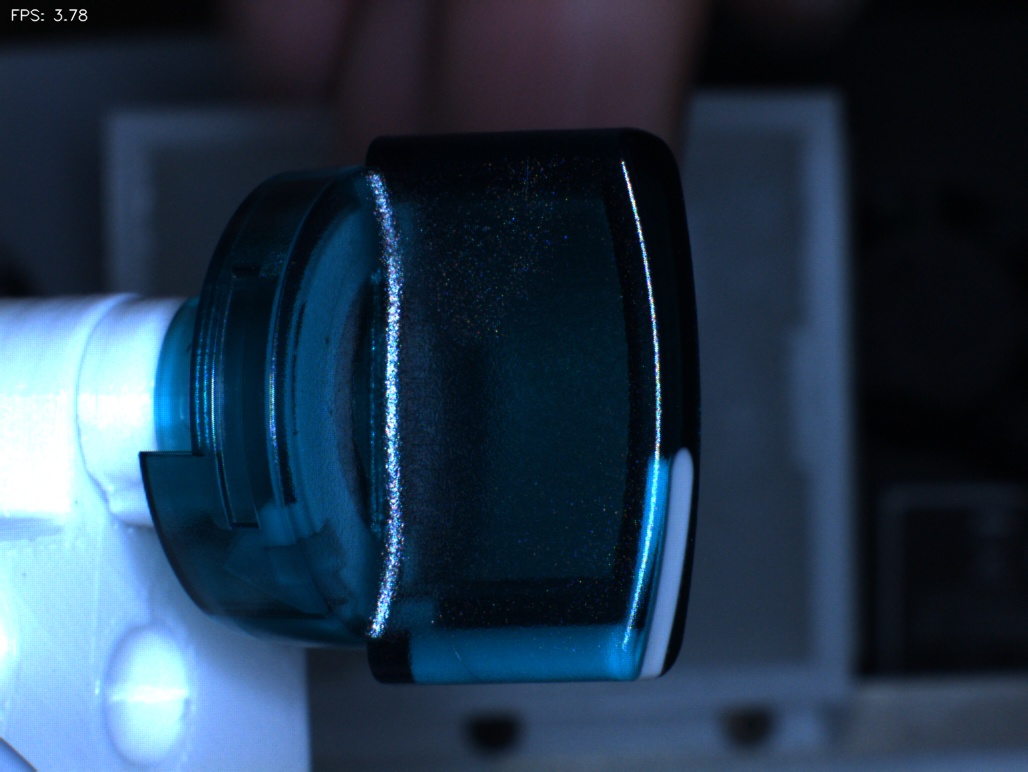PointNoir: (288, 297, 370, 383)
